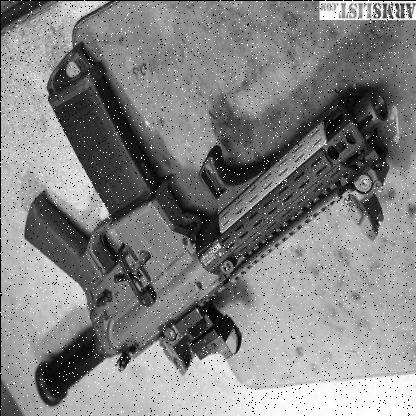rifle: (1, 42, 397, 416)
